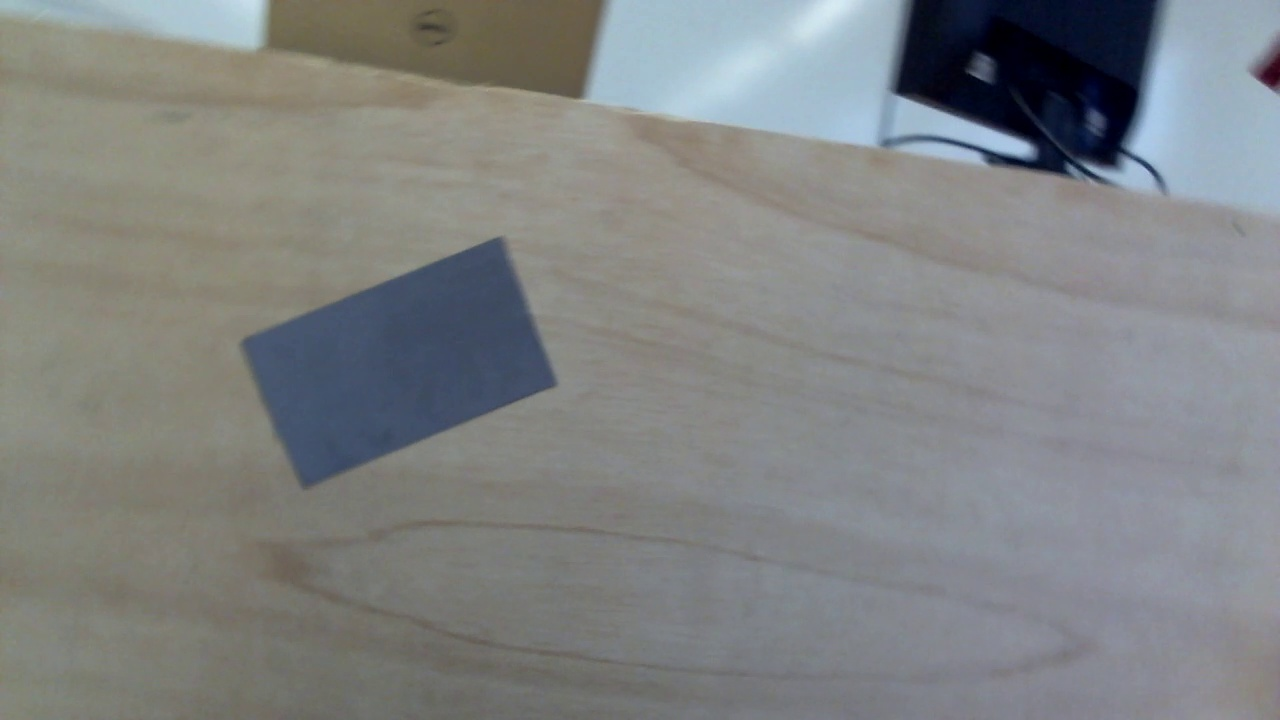Tape: (238, 237, 560, 493)
